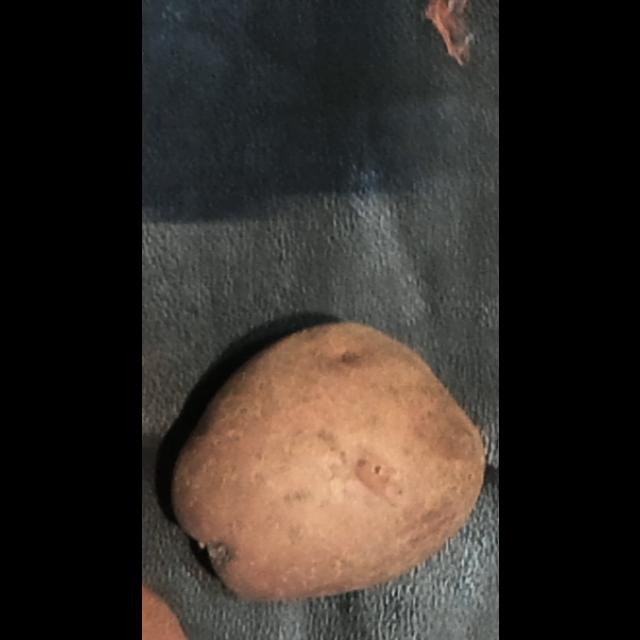Diseased-fungal potato: (162, 302, 496, 606)
